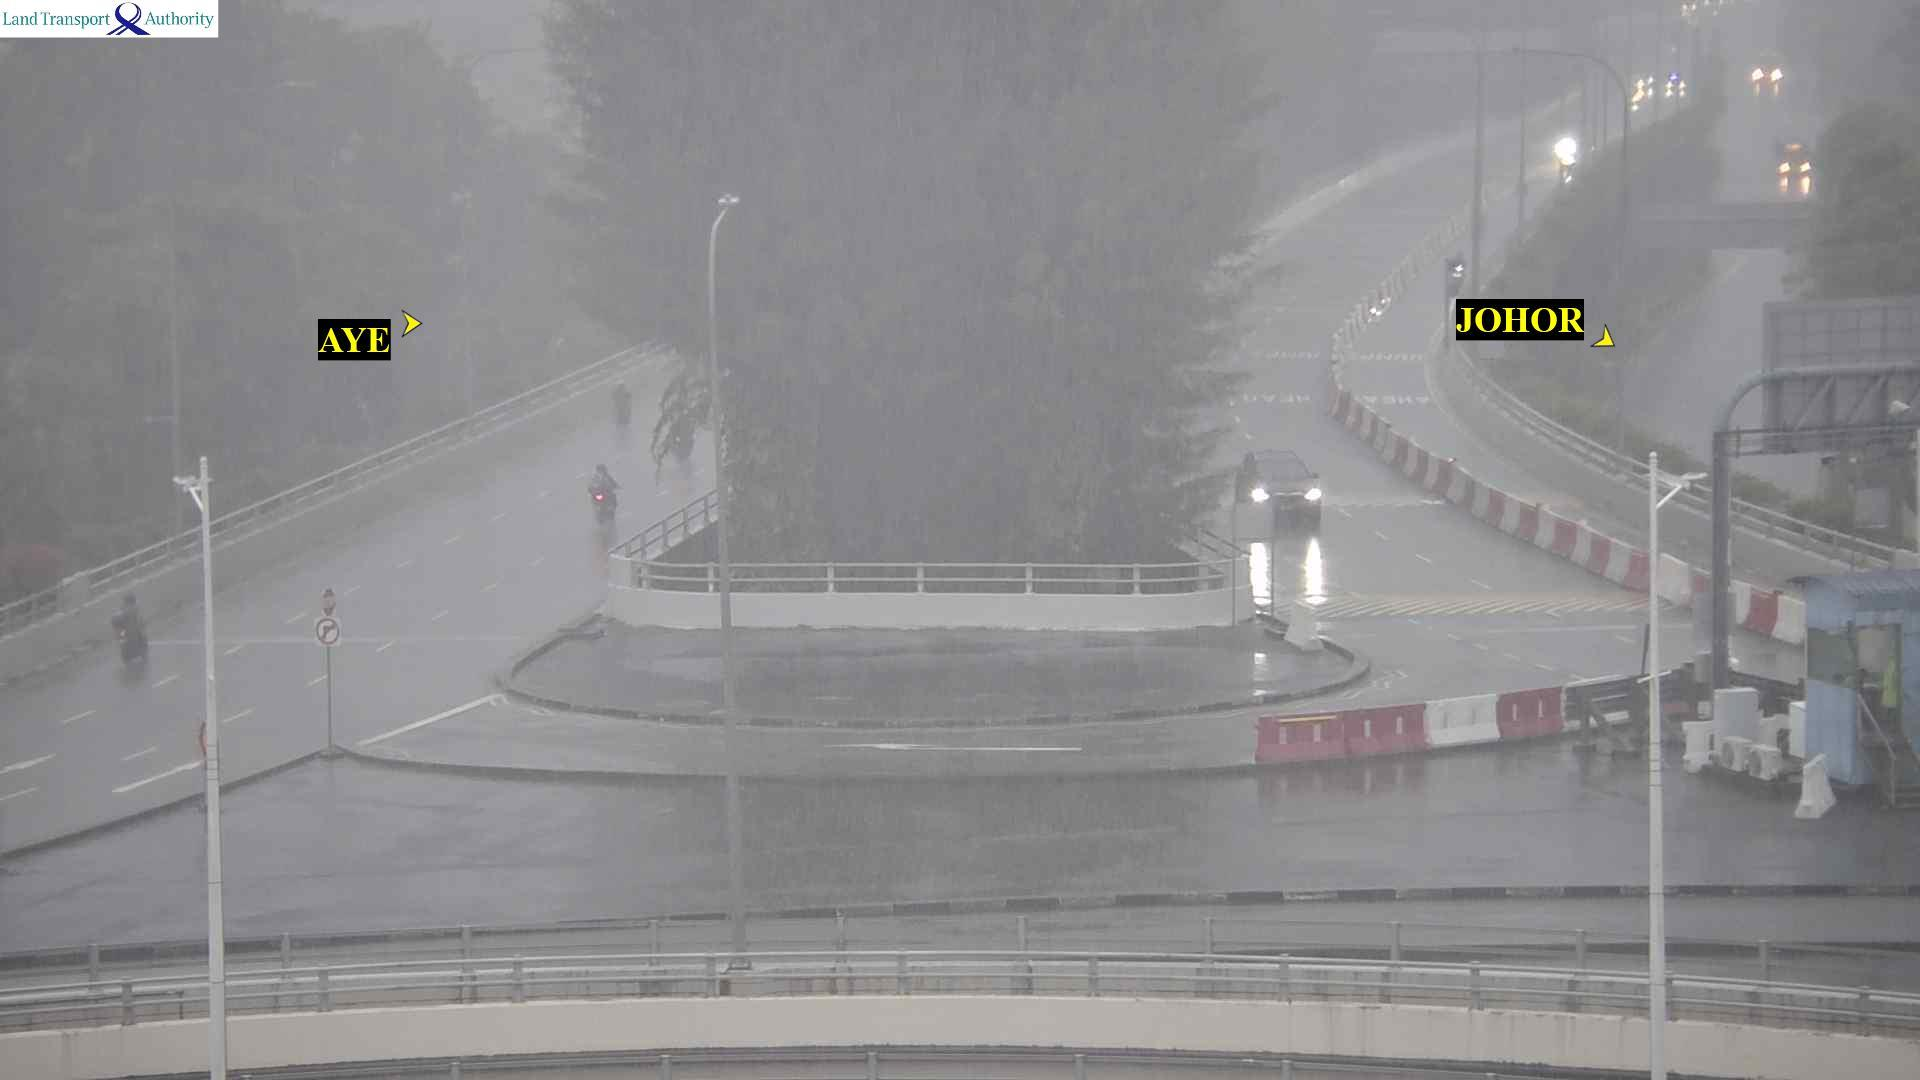vehicle-secondlink-johor: (1235, 447, 1324, 526)
vehicle-secondlink-singapore: (109, 592, 143, 663), (588, 462, 621, 523), (609, 376, 628, 425)
